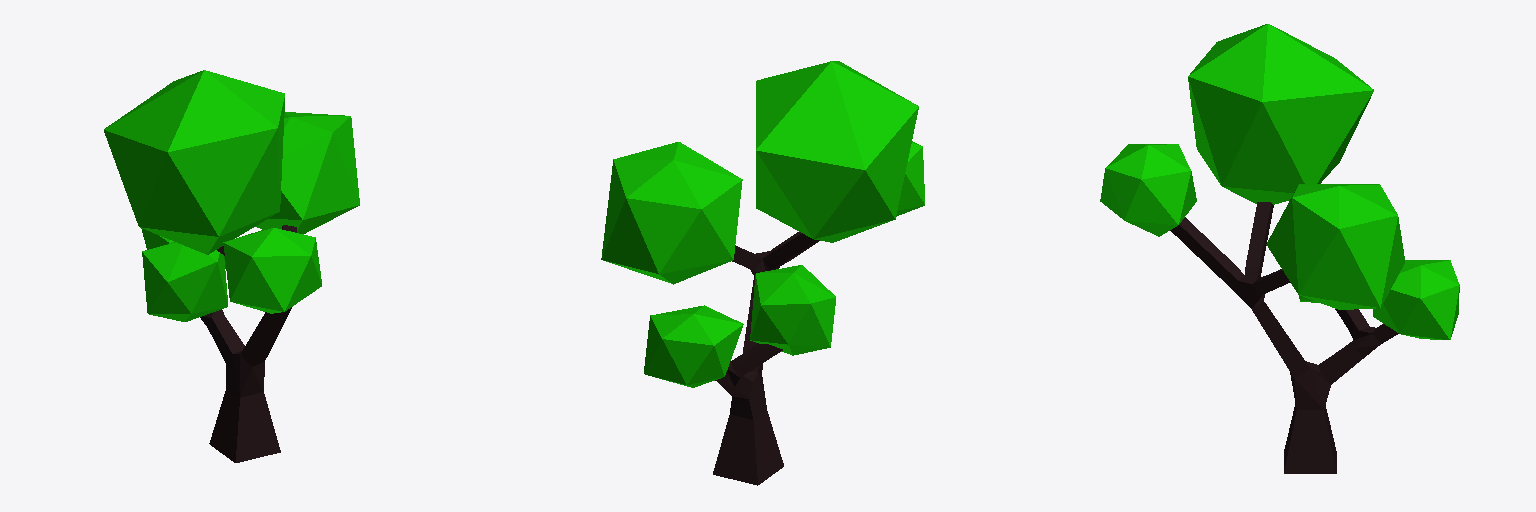
File: dtree7B(F326).obj
The picture shows the model from 3 angles: view 1: azimuth 30°, elevation 25°; view 2: azimuth 150°, elevation 25°; view 3: azimuth 270°, elevation 25°; orthographic projection.
Visible parts, largest first — view 1: Icosphere.044, Icosphere.043, Cube.010, Icosphere.045, Icosphere.041; view 2: Icosphere.044, Icosphere.043, Cube.010, Icosphere.042, Icosphere.041, Icosphere.045; view 3: Icosphere.044, Icosphere.043, Cube.010, Icosphere.045, Icosphere.042.
Part boxes in pixels (x1,y1,x2,y2): Icosphere.044: (104,70,284,254); Icosphere.043: (255,112,359,233); Cube.010: (200,225,296,462); Icosphere.045: (223,228,321,313); Icosphere.041: (142,242,227,321); Icosphere.044: (756,61,918,242); Icosphere.043: (601,142,742,284); Cube.010: (713,232,819,485); Icosphere.042: (644,305,743,387); Icosphere.041: (750,265,835,355); Icosphere.045: (896,141,924,216); Icosphere.044: (1188,24,1373,204); Icosphere.043: (1266,184,1404,309); Cube.010: (1170,202,1398,473); Icosphere.045: (1100,144,1196,236); Icosphere.042: (1373,260,1459,339).
Size of the model in its own units: 1.44 by 2.25 by 1.79.